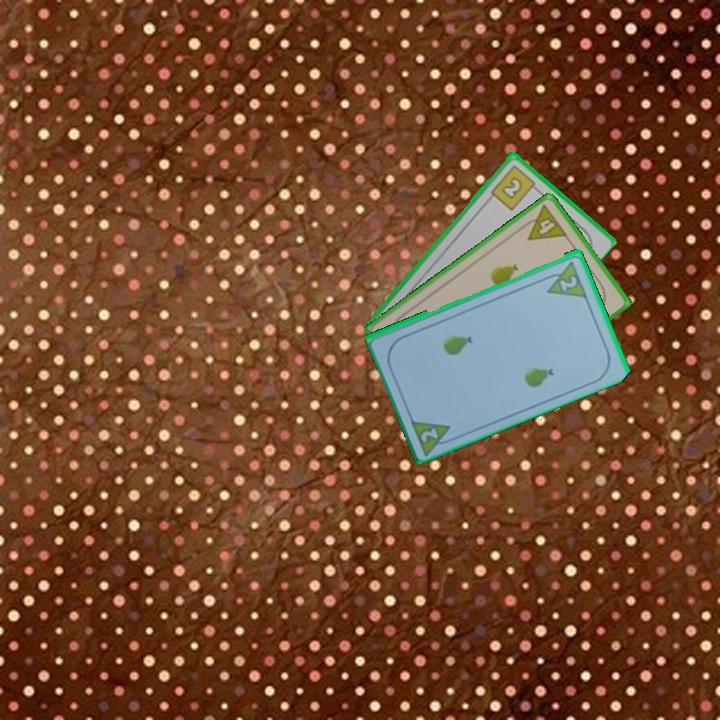2b: (487, 161, 542, 213)
2p: (556, 272, 580, 293), (417, 424, 441, 445)
4p: (516, 201, 570, 243)
